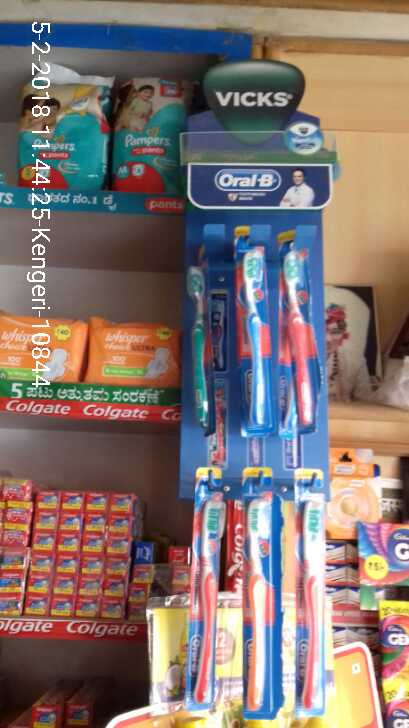pharmacy: (240, 466, 279, 717), (114, 73, 186, 199), (292, 465, 326, 719), (238, 236, 280, 437), (279, 240, 322, 436), (190, 464, 223, 708), (84, 315, 184, 391), (184, 264, 214, 442)
